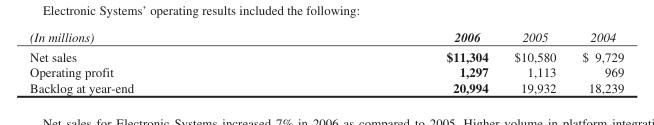table: (29, 29, 623, 94)
table column: (29, 29, 289, 94), (289, 29, 500, 94), (500, 29, 568, 94), (568, 29, 623, 94)
table column header: (29, 29, 623, 46)
table row: (29, 29, 623, 46), (29, 46, 623, 63), (29, 63, 623, 79), (29, 79, 623, 94)
